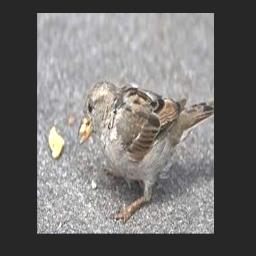Sparrow: (77, 80, 214, 222)
